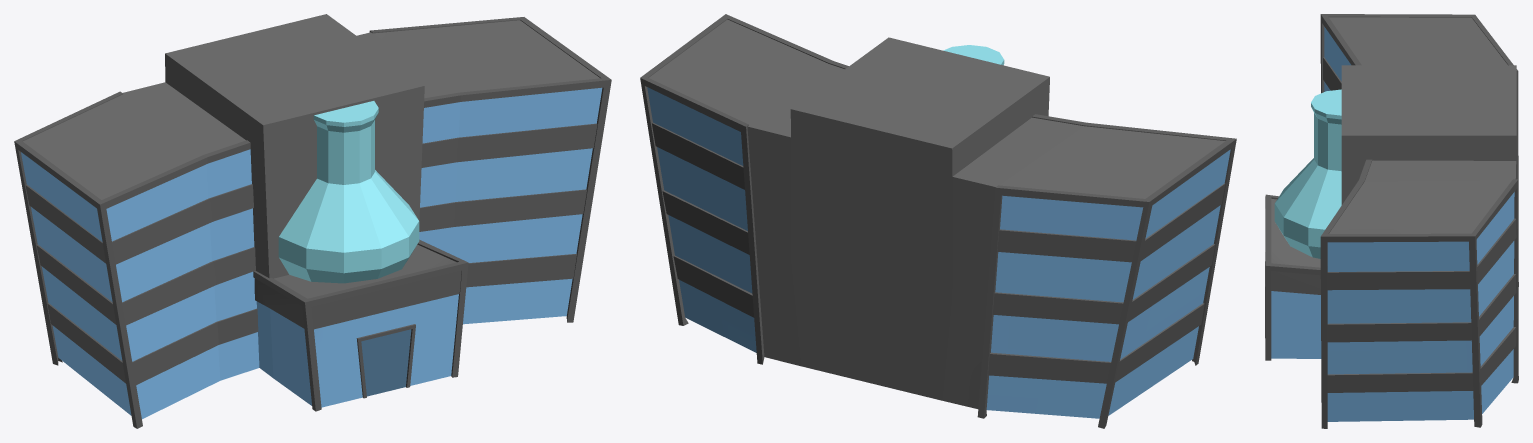
Rendered from Lab.fbx.
3 renders of one model, left to right at view 1: azimuth 30°, elevation 25°; view 2: azimuth 150°, elevation 25°; view 3: azimuth 270°, elevation 25°, orthographic. The views are drawn at different scales.
Parts seen in each view (by area): view 1: lab; view 2: lab; view 3: lab.
Boxes of the visible parts, left/top/right/bottom form: lab: left=14, top=14, right=611, bottom=428; lab: left=640, top=14, right=1236, bottom=428; lab: left=1265, top=14, right=1518, bottom=428.
Size of the model in its own units: 1756 by 863 by 846.
